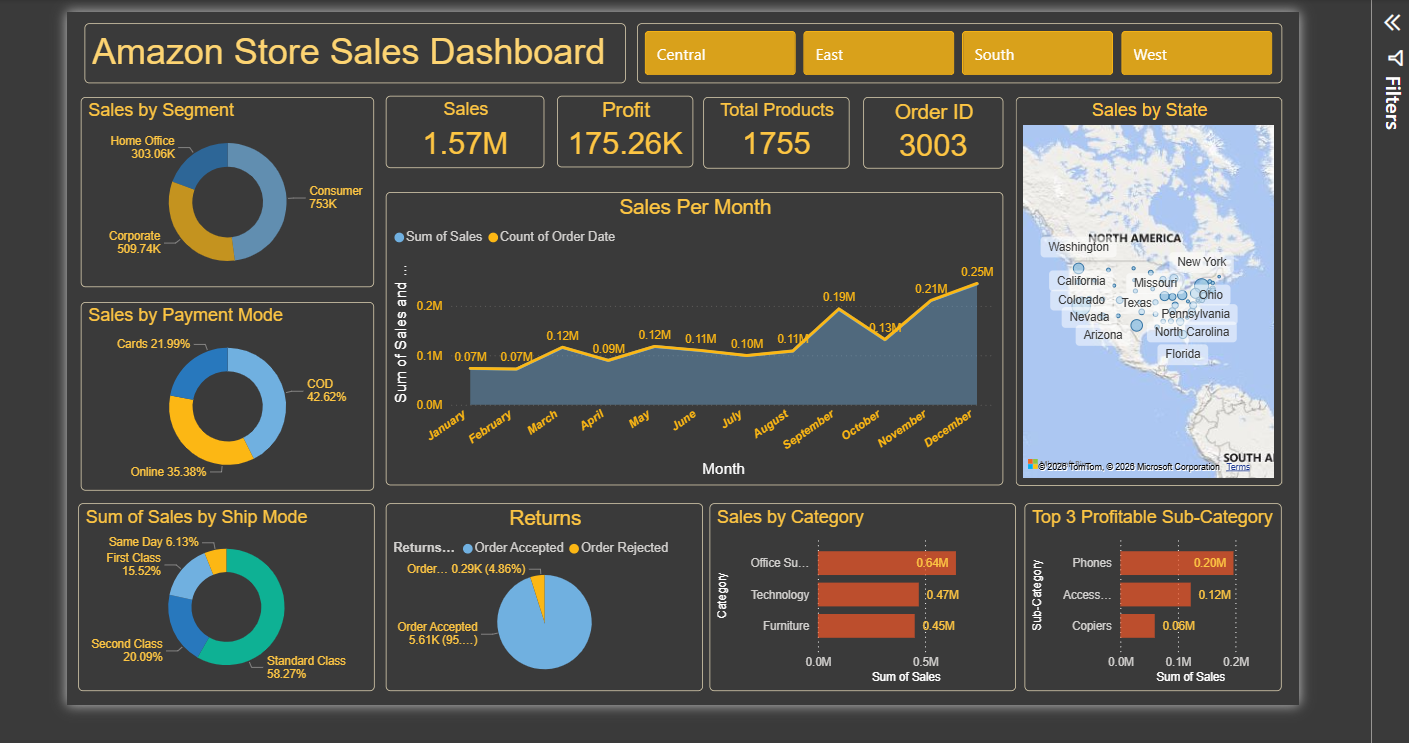

This screenshot's page, from the dashboard's own definition file:
{"tool":"powerbi","page":{"name":"Page 1","canvas":[1280,720],"ordinal":0},"visuals":[{"type":"card","title":"Sales","fields":{"Values":["Sum(Sheet1.Sales)"]},"box":[331.2,87,164.9,75.3],"z":0},{"type":"card","title":"Profit","fields":{"Values":["Sum(Sheet1.Profit)"]},"box":[509.1,87,141.6,74],"z":1000},{"type":"card","title":"Order ID","fields":{"Values":["Count(Sheet1.Order ID)"]},"box":[827.3,88.3,145.5,74],"z":2000},{"type":"clusteredBarChart","title":"Sales by Category","fields":{"Category":["Sheet1.Category"],"Y":["Sum(Sheet1.Sales)"]},"box":[667.5,510.4,318.2,194.8],"z":3000},{"type":"clusteredBarChart","title":"Top 3 Profitable Sub-Category","fields":{"Category":["Sheet1.Sub-Category"],"Y":["Sum(Sheet1.Sales)"]},"box":[994.8,510.4,267.5,194.8],"z":4000},{"type":"donutChart","title":" Sales by Segment","fields":{"Category":["Sheet1.Segment"],"Y":["Sum(Sheet1.Sales)"]},"box":[14.3,88.3,305.2,197.4],"z":5000},{"type":"donutChart","title":"Sales by Payment Mode","fields":{"Y":["Sum(Sheet1.Sales)"],"Category":["Sheet1.Payment Mode"]},"box":[14.3,301.3,305.2,196.1],"z":6000},{"type":"map","title":"Sales by State","fields":{"Category":["Sheet1.State"],"Size":["Sum(Sheet1.Sales)"]},"box":[985.7,88.3,276.6,403.9],"z":7000},{"type":"card","title":"Total Products","fields":{"Values":["Count(Sheet1.Product ID)"]},"box":[661,88.3,151.9,74],"z":8000},{"type":"stackedAreaChart","title":"Sales Per Month","fields":{"Y":["Sum(Sheet1.Sales)","CountNonNull(Sheet1.Order Date)"],"Category":["Sheet1.Order Date.Variation.Date Hierarchy.Month"]},"box":[331.2,187,641.6,305.2],"z":9000},{"type":"advancedSlicerVisual","fields":{"Values":["Sheet1.Region"]},"box":[592.2,11.7,670.1,62.3],"z":9001},{"type":"pieChart","title":"Returns","fields":{"Category":["Sheet1.Returns_status"],"Y":["CountNonNull(Sheet1.Returns_status)"]},"box":[331.2,510.4,329.9,194.8],"z":9002},{"type":"donutChart","fields":{"Y":["Sum(Sheet1.Sales)"],"Category":["Sheet1.Ship Mode"]},"box":[11.7,510.4,307.8,194.8],"z":9003},{"type":"textbox","box":[18.2,11.7,562.3,62.3],"z":9004}]}

Visuals, with their boxes in screenshot pixels (x1, y1, x2, y2):
"Sales" card: <bbox>383, 96, 544, 170</bbox>
"Profit" card: <bbox>557, 96, 696, 169</bbox>
"Order ID" card: <bbox>869, 97, 1011, 170</bbox>
"Sales by Category" clusteredBarChart: <bbox>712, 511, 1024, 702</bbox>
"Top 3 Profitable Sub-Category" clusteredBarChart: <bbox>1033, 511, 1295, 702</bbox>
" Sales by Segment" donutChart: <bbox>73, 97, 372, 291</bbox>
"Sales by Payment Mode" donutChart: <bbox>73, 306, 372, 498</bbox>
"Sales by State" map: <bbox>1024, 97, 1295, 493</bbox>
"Total Products" card: <bbox>706, 97, 855, 170</bbox>
"Sales Per Month" stackedAreaChart: <bbox>383, 194, 1011, 493</bbox>
advancedSlicerVisual - Sheet1.Region: <bbox>639, 22, 1295, 83</bbox>
"Returns" pieChart: <bbox>383, 511, 706, 702</bbox>
donutChart - Sum(Sheet1.Sales) x Sheet1.Ship Mode: <bbox>70, 511, 372, 702</bbox>
textbox: <bbox>77, 22, 627, 83</bbox>
